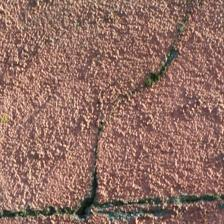Crack: (0, 43, 110, 155), (32, 75, 67, 148), (168, 87, 224, 122)
